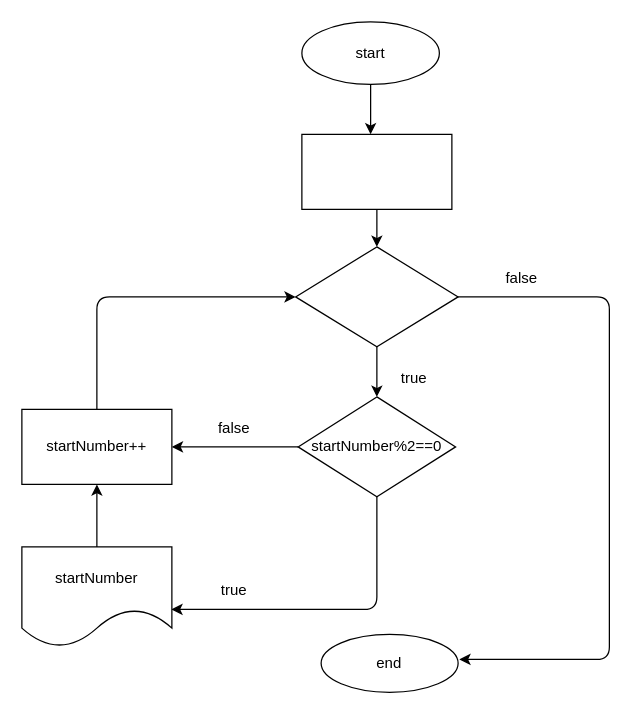
Some shapes in this 641 by 715 pixel diagram are drawn without their labels. Here are the shapes that lost their labels. From the top down, the centre of each, then its label:
At pixel 376 171: "startNumber =1".
At pixel 376 296: "startNumber<=N".
